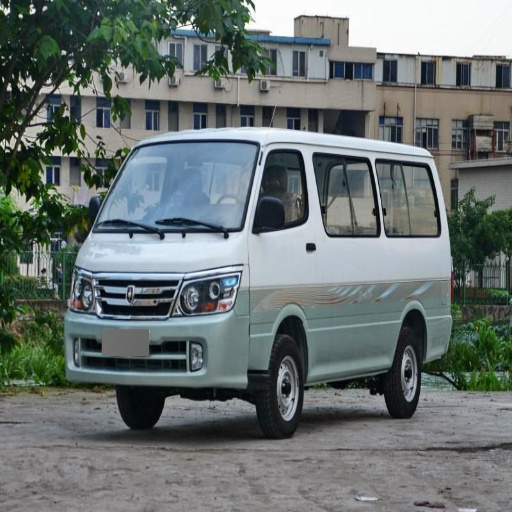front_bumper: (65, 272, 262, 385)
front_glass: (95, 144, 260, 231)
front_left_door: (255, 149, 296, 234)
trunk: (311, 246, 450, 371)
